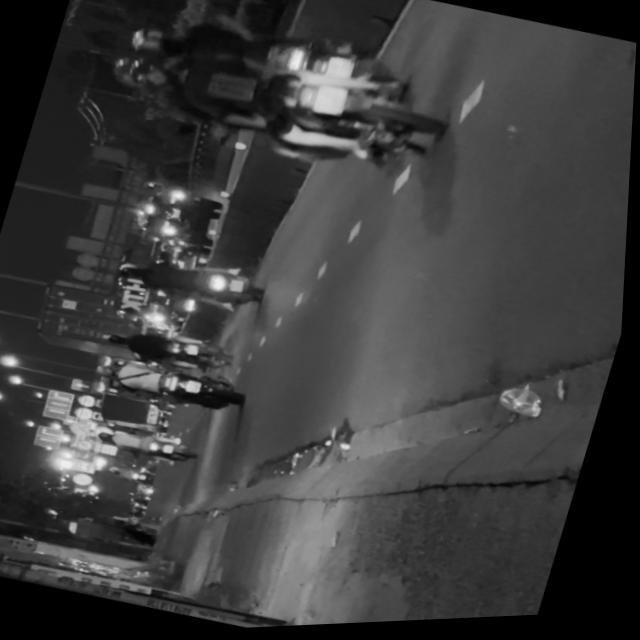helmet: (108, 49, 175, 95), (124, 19, 184, 63)
licenseplate: (92, 16, 460, 201)
nohelmet: (309, 84, 349, 118), (323, 54, 355, 83)
